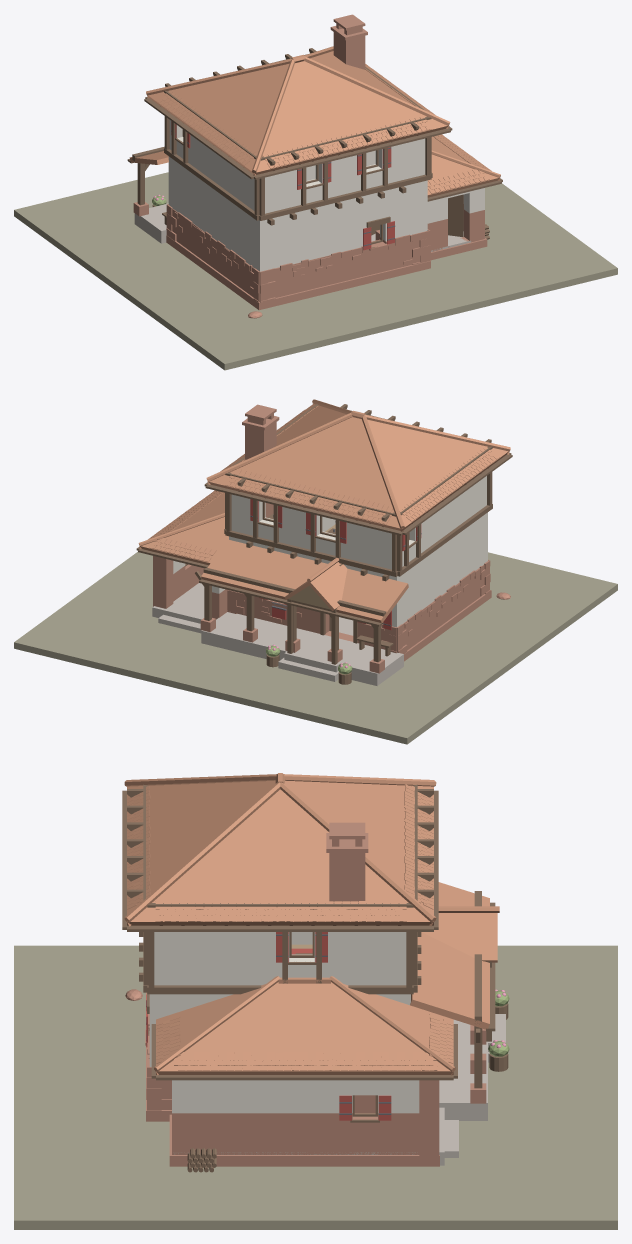
File: tavern-7-annex.glb
The picture shows the model from 3 angles, top to bottom: view 1: azimuth 30°, elevation 25°; view 2: azimuth 150°, elevation 25°; view 3: azimuth 270°, elevation 25°; orthographic projection. The views are drawn at different scales.
Visible parts, largest first — view 1: zemlya__m00, krysha__m03, obolochka__m01, obolochka__m00, obolochka__m02, krysha__m02, krysha__m00, obolochka__m11, obolochka__m05; view 2: zemlya__m00, krysha__m03, obolochka__m01, obolochka__m02, obolochka__m00, obolochka__m11, obolochka__m03, krysha__m02, krysha__m00, obolochka__m05, melochi__m02; view 3: zemlya__m00, krysha__m03, obolochka__m01, obolochka__m00, obolochka__m02, obolochka__m03, krysha__m02, obolochka__m11, krysha__m00, obolochka__m05, melochi__m02.
Boxes of the visible parts, box(x1,y1,x2,y2) form: zemlya__m00: box(14, 172, 617, 370); krysha__m03: box(146, 46, 500, 197); obolochka__m01: box(168, 120, 484, 271); obolochka__m00: box(133, 202, 487, 310); obolochka__m02: box(127, 48, 463, 248); krysha__m02: box(144, 97, 502, 201); krysha__m00: box(330, 14, 367, 69); obolochka__m11: box(134, 203, 471, 251); obolochka__m05: box(171, 121, 394, 250); zemlya__m00: box(14, 552, 617, 744); krysha__m03: box(138, 399, 510, 565); obolochka__m01: box(173, 476, 487, 627); obolochka__m02: box(185, 404, 492, 664); obolochka__m00: box(153, 556, 491, 673); obolochka__m11: box(152, 583, 403, 685); obolochka__m03: box(201, 539, 408, 622); krysha__m02: box(136, 452, 512, 568); krysha__m00: box(242, 404, 279, 459); obolochka__m05: box(250, 499, 421, 630); melochi__m02: box(266, 635, 393, 684); zemlya__m00: box(14, 945, 617, 1229); krysha__m03: box(124, 773, 455, 1075); obolochka__m01: box(149, 932, 419, 1113); obolochka__m00: box(145, 992, 486, 1166); obolochka__m02: box(127, 784, 495, 1122); obolochka__m03: box(410, 882, 499, 1029); krysha__m02: box(122, 790, 457, 1080); obolochka__m11: box(173, 1014, 505, 1165); krysha__m00: box(326, 822, 368, 902); obolochka__m05: box(146, 932, 391, 1120); melochi__m02: box(187, 1003, 508, 1172).
Size of the model in its own units: 18.02 by 8.99 by 16.73.
